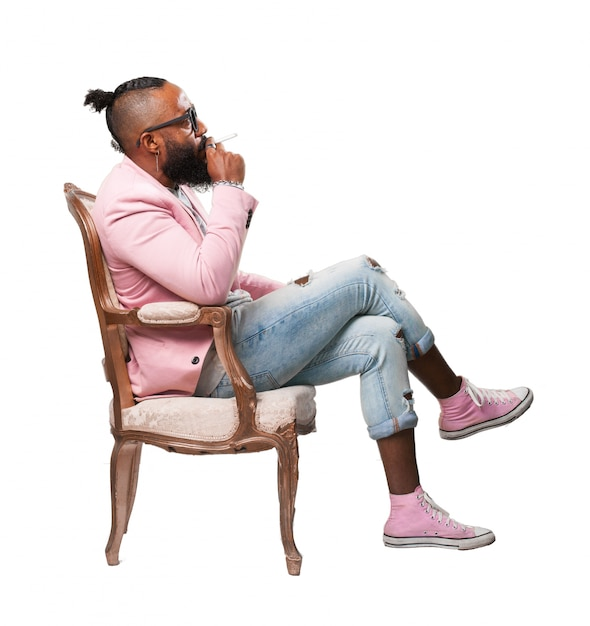cigarette: (209, 129, 243, 144)
